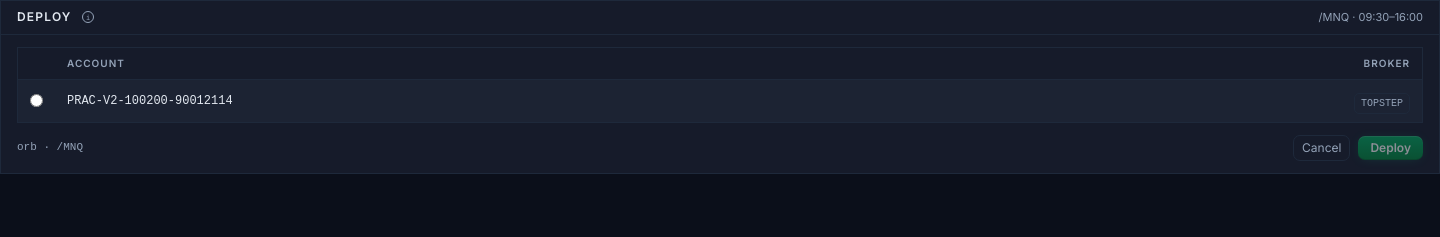
Test case: an engine start that fails after the create › says the row was deleted when the rollback landed
What coordinates should you click on to do the following:
click the radio button named "PRAC-V2-100200-90012114"
I would click on:
 (36, 100)
Its box is [30, 94, 43, 106].
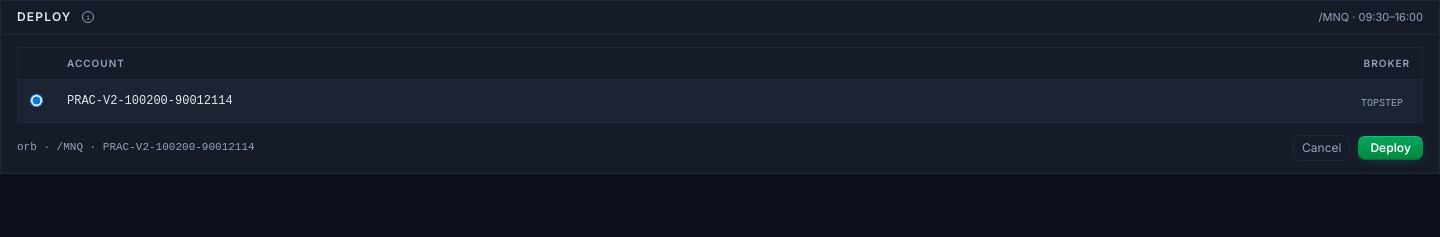
What coordinates should you click on to do the following:
click the button "Deploy"
I would click on:
 (1391, 148)
Its box is [1358, 136, 1423, 160].
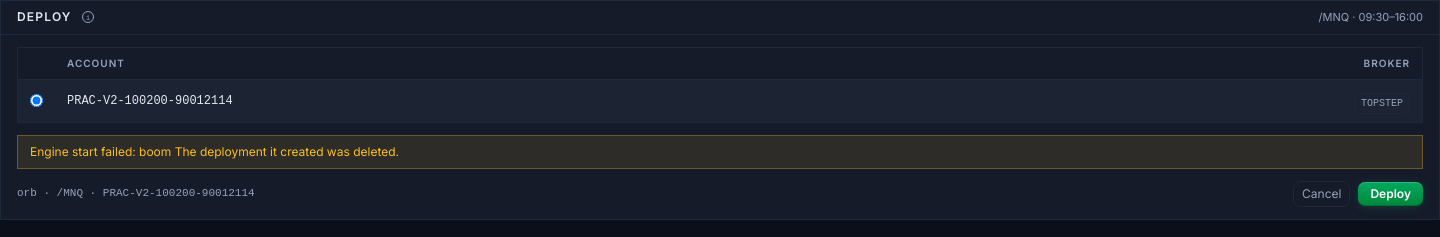
Expected: the text "The deployment it created was deleted." is shown, [30, 144, 399, 158]
